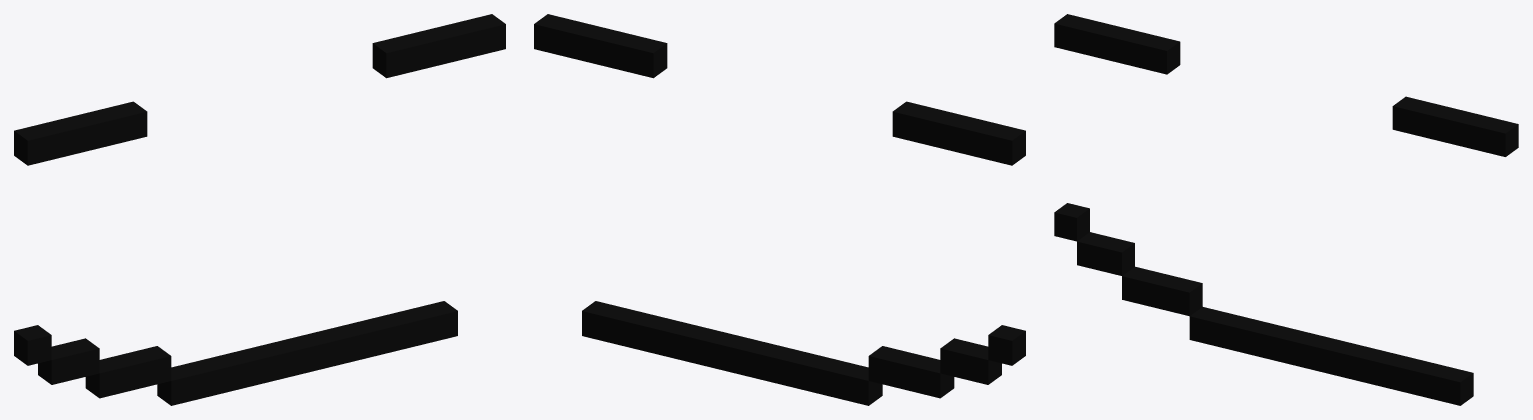
File: Smug.fbx
The picture shows the model from 3 angles, left to right: view 1: azimuth 30°, elevation 25°; view 2: azimuth 150°, elevation 25°; view 3: azimuth 330°, elevation 25°; orthographic projection. The views are drawn at different scales.
Parts seen in each view (by area): view 1: SmugFace; view 2: SmugFace; view 3: SmugFace.
Part boxes in pixels (x1,y1,x2,y2): SmugFace: (14,14,505,405); SmugFace: (534,14,1025,405); SmugFace: (1054,14,1518,405).
Size of the model in its own units: 200 by 10 by 120.
1 material, 1 textured.
